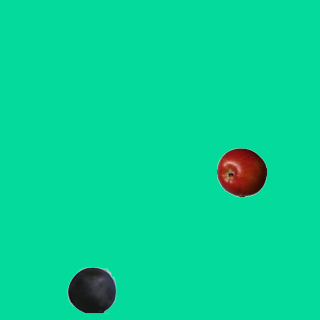Apple Braeburn: (216, 147, 266, 197)
Grape Blue: (66, 264, 116, 314)
